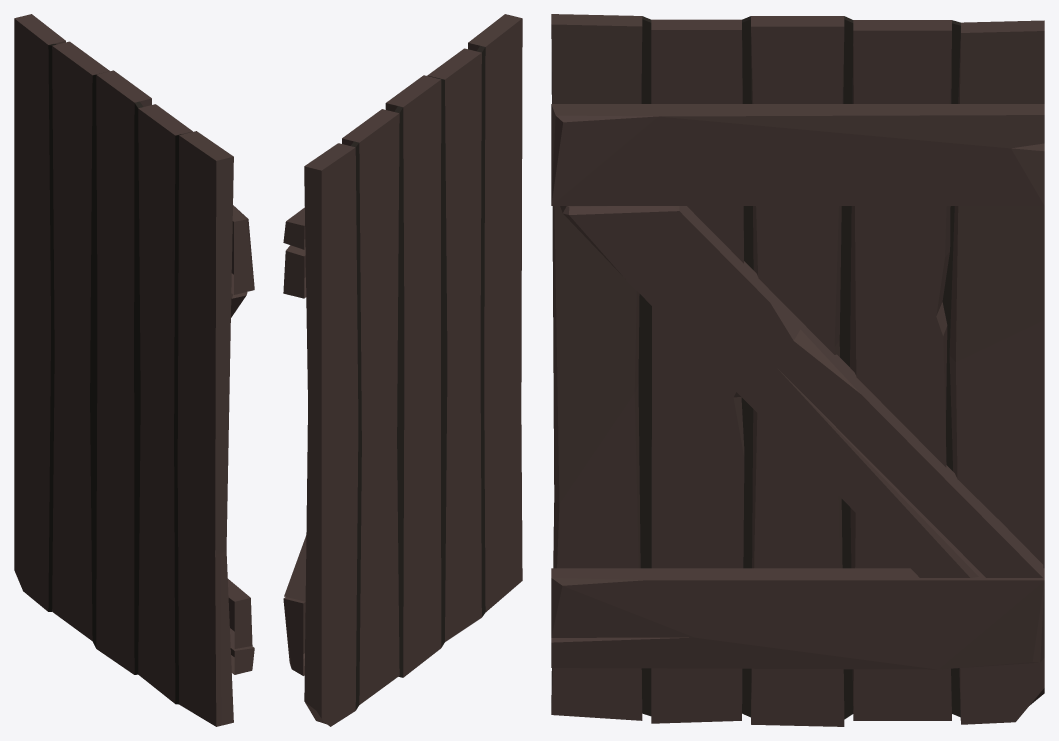
File: SM_Stable_door_right.fbx
3 views of the same model, side by side, from view 1: azimuth 30°, elevation 25°; view 2: azimuth 150°, elevation 25°; view 3: azimuth 270°, elevation 25° (orthographic). The views are drawn at different scales.
Visible parts, largest first — view 1: SM_Stable_door_right; view 2: SM_Stable_door_right; view 3: SM_Stable_door_right.
Part boxes in pixels (<box>): SM_Stable_door_right: <box>14,14,254,726</box>; SM_Stable_door_right: <box>283,14,522,726</box>; SM_Stable_door_right: <box>551,14,1044,726</box>.
Size of the model in its own units: 13.94 by 199 by 127.
Materials: 1 (1 with a texture image).
